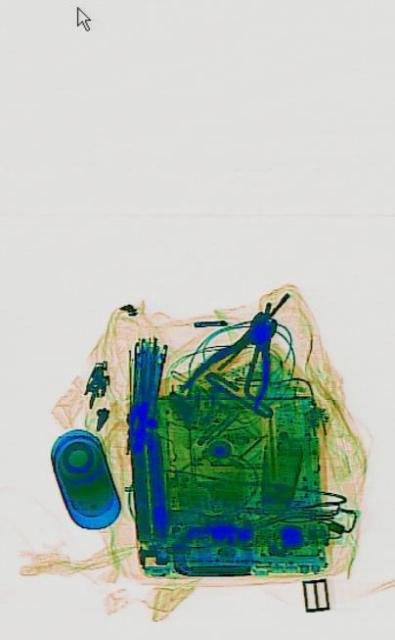Pliers: (177, 274, 290, 452)
